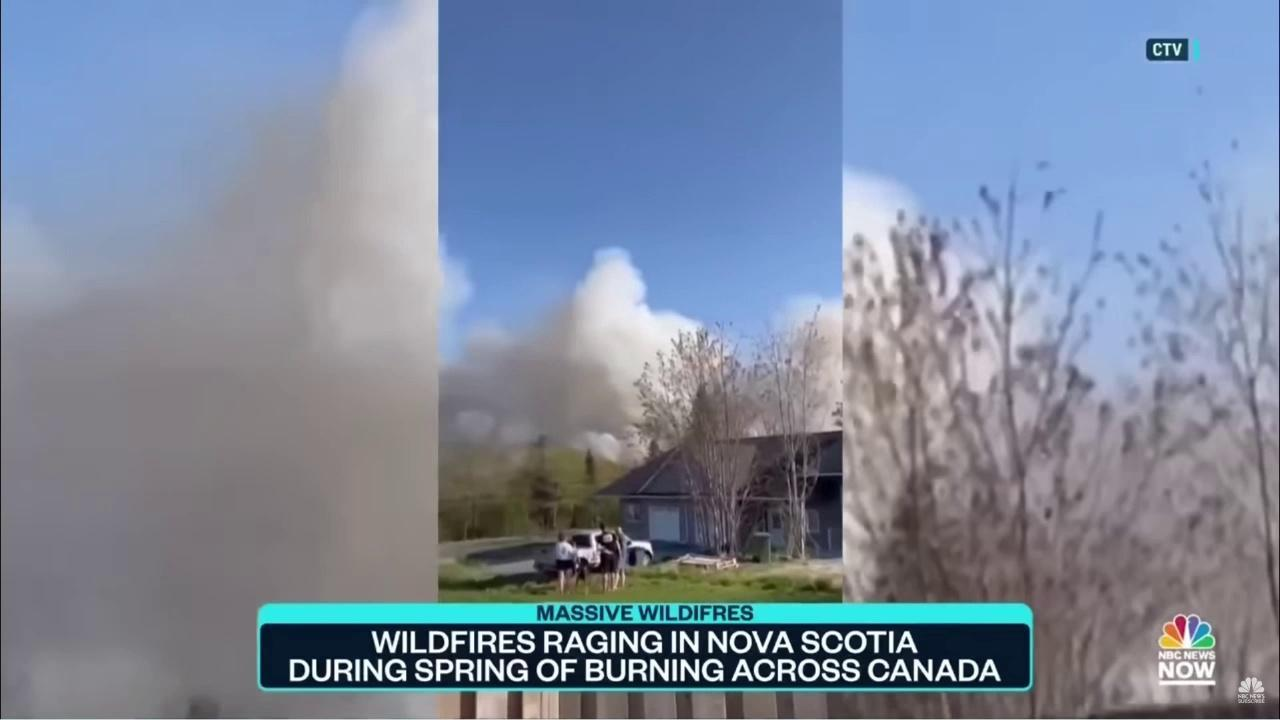smoke: (438, 232, 842, 473)
